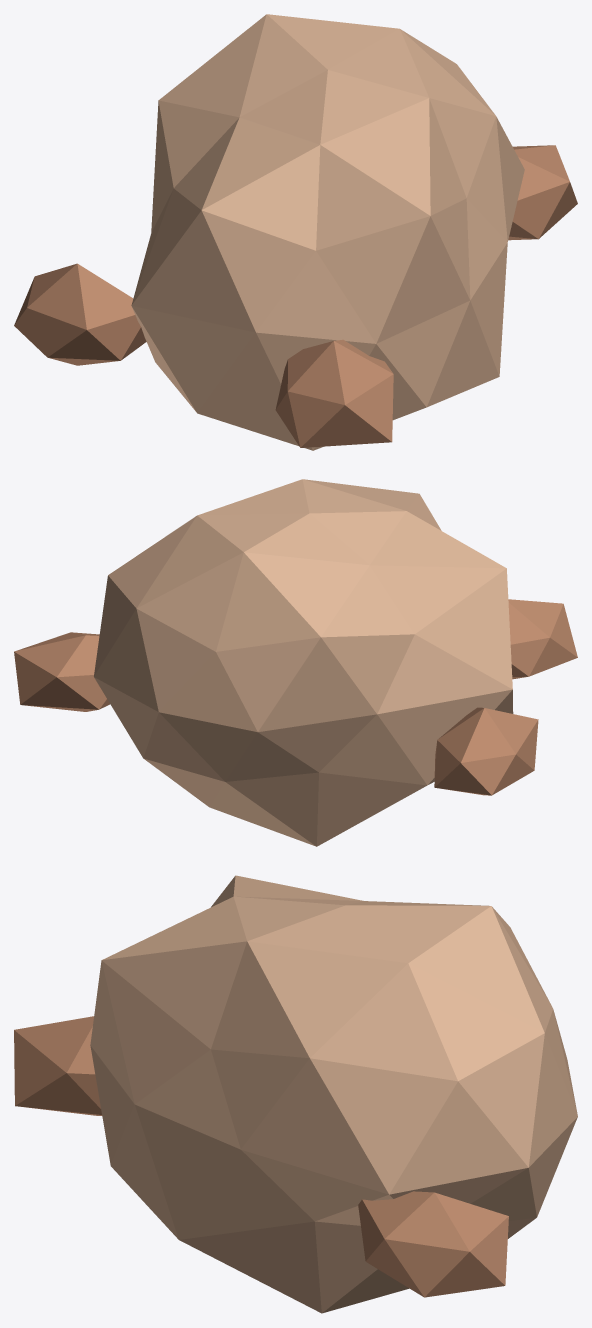
File: BoulderC.glb
The picture shows the model from 3 angles, top to bottom: view 1: azimuth 30°, elevation 25°; view 2: azimuth 150°, elevation 25°; view 3: azimuth 270°, elevation 25°; orthographic projection. The views are drawn at different scales.
Parts seen in each view (by area): view 1: Boulder.002, Spall.007, Spall.006, Spall.008; view 2: Boulder.002, Spall.006, Spall.008, Spall.007; view 3: Boulder.002, Spall.008, Spall.007.
Boxes of the visible parts, box(x1,y1,x2,y2) form: Boulder.002: box(131, 14, 524, 450); Spall.007: box(275, 339, 393, 447); Spall.006: box(14, 263, 146, 365); Spall.008: box(508, 145, 577, 240); Boulder.002: box(94, 479, 513, 846); Spall.006: box(434, 707, 538, 795); Spall.008: box(14, 632, 109, 711); Spall.007: box(508, 599, 577, 679); Boulder.002: box(90, 875, 577, 1313); Spall.008: box(358, 1191, 508, 1297); Spall.007: box(14, 1016, 102, 1115).
Bounding box in the file's own units: 1.78 × 1.07 × 1.47.
